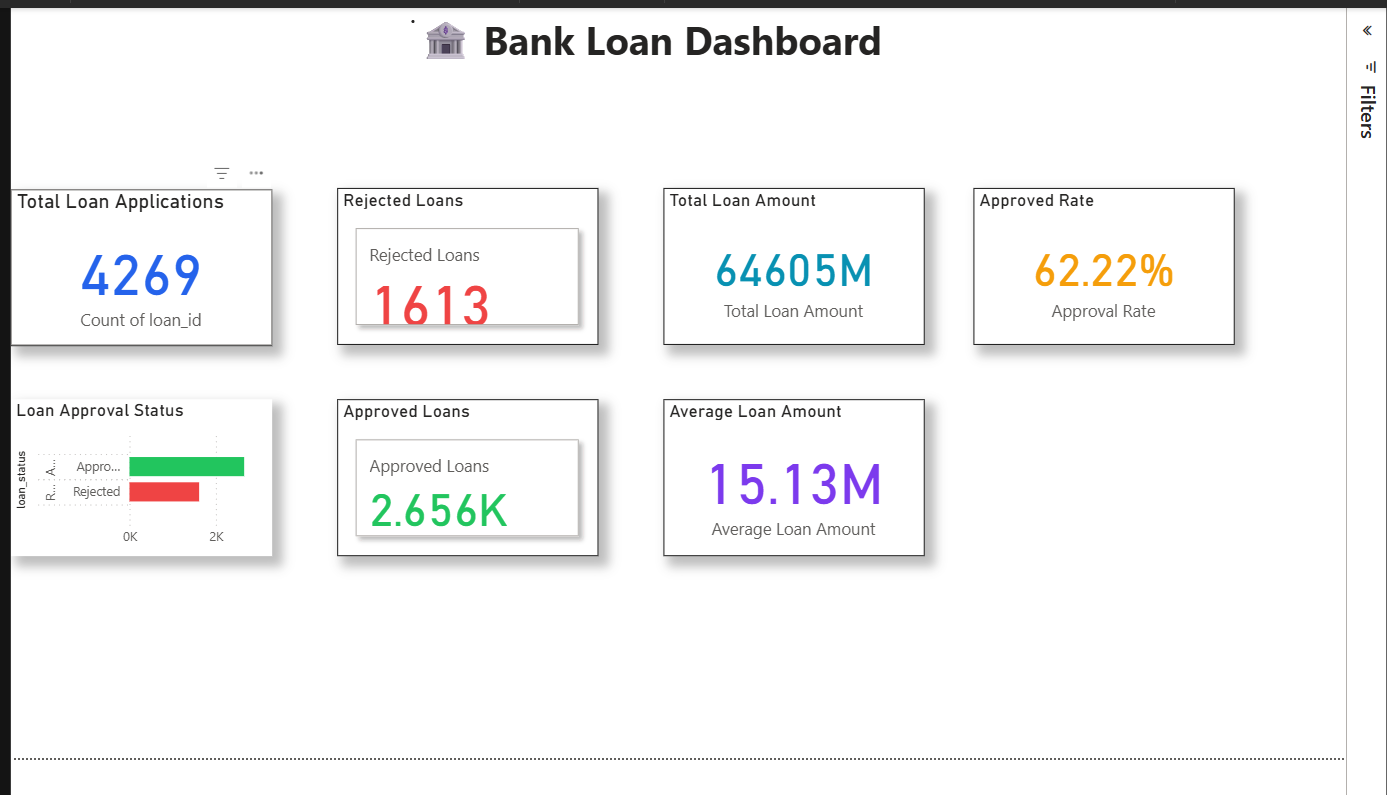

What the dashboard file says about the page in this screenshot:
{"tool":"powerbi","page":{"name":"Bank Loan Dashboard","canvas":[1280,720],"ordinal":0},"visuals":[{"type":"card","title":"Total Loan Applications","fields":{"Values":["Count(loan_approval_dataset.loan_id)"]},"box":[0,173.4,250,150],"z":0},{"type":"card","title":"Approved Rate","fields":{"Values":["loan_approval_dataset.Approval Rate"]},"box":[922.9,172.9,250,150],"z":1000},{"type":"cardVisual","title":"Approved Loans","fields":{"Data":["loan_approval_dataset.Approved Loans"]},"box":[312.9,375.7,250,150],"z":2000},{"type":"card","title":"Average Loan Amount","fields":{"Values":["loan_approval_dataset.Average Loan Amount"]},"box":[625.7,375.7,250,150],"z":3000},{"type":"cardVisual","title":"Rejected Loans","fields":{"Data":["loan_approval_dataset.Rejected Loans"]},"box":[312.9,172.9,250,150],"z":4000},{"type":"card","title":"Total Loan Amount","fields":{"Values":["loan_approval_dataset.Total Loan Amount"]},"box":[625.7,172.9,250,150],"z":5000},{"type":"barChart","title":"Loan Approval Status","fields":{"Category":["loan_approval_dataset. loan_status","loan_approval_dataset. loan_status"],"Y":["Count(loan_approval_dataset.loan_id)"]},"box":[0,375.7,250,150],"z":6000},{"type":"textbox","box":[1267.1,0,12.9,90],"z":7000},{"type":"textbox","box":[0,0,1208.6,108.6],"z":7001}]}

Visuals, with their boxes on the page's 1280x720 design canvas (x1, y1, x2, y2). These are canvas units, not pixel positions in the 1387x795 screenshot, which may show the page scaled, cropped or inside an application window:
"Total Loan Applications" card: detection(0, 173, 250, 323)
"Approved Rate" card: detection(923, 173, 1173, 323)
"Approved Loans" cardVisual: detection(313, 376, 563, 526)
"Average Loan Amount" card: detection(626, 376, 876, 526)
"Rejected Loans" cardVisual: detection(313, 173, 563, 323)
"Total Loan Amount" card: detection(626, 173, 876, 323)
"Loan Approval Status" barChart: detection(0, 376, 250, 526)
textbox: detection(1267, 0, 1280, 90)
textbox: detection(0, 0, 1209, 109)
